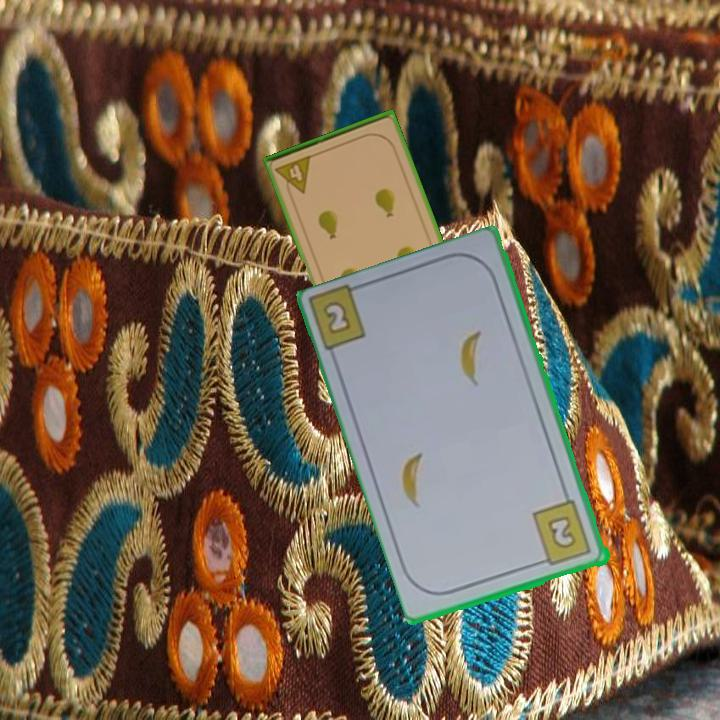2b: (529, 497, 595, 569), (319, 297, 355, 338)
4p: (272, 152, 315, 200)
